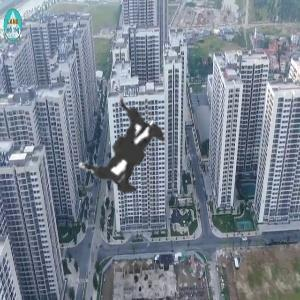drone: (4, 13, 271, 280)
